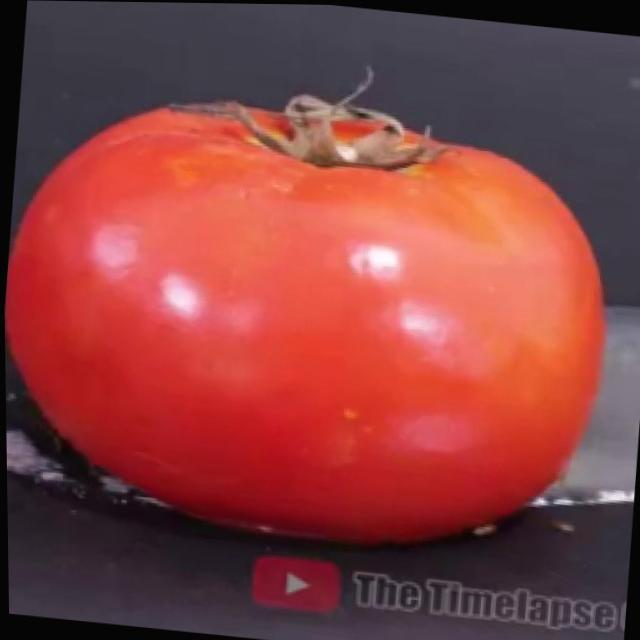tomato: (1, 69, 626, 567)
